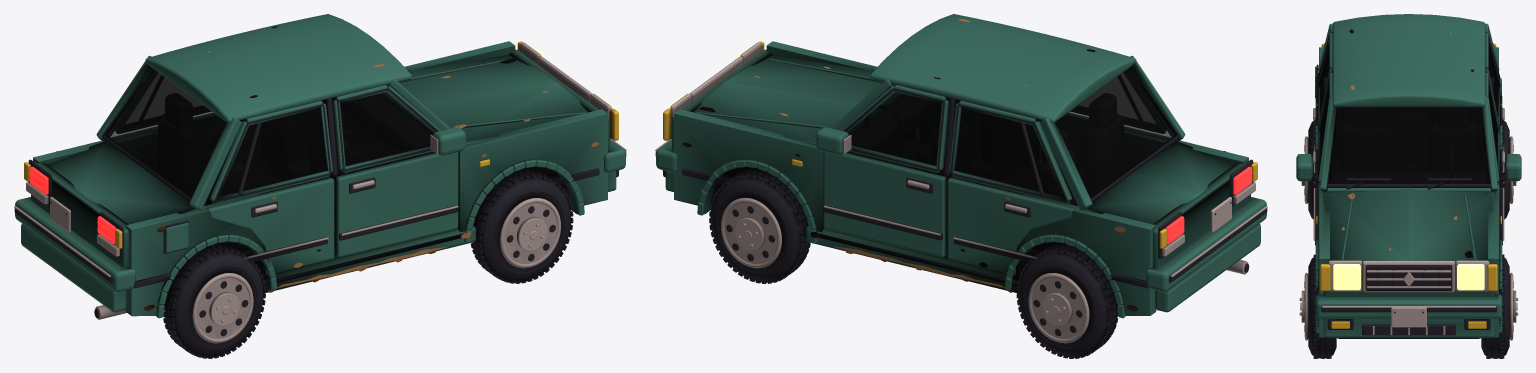
3 renders of one model, left to right at view 1: azimuth 30°, elevation 25°; view 2: azimuth 150°, elevation 25°; view 3: azimuth 270°, elevation 25°, orthographic. The views are drawn at different scales.
Visible parts, largest first — view 1: body_pal_backpackTeal, body_pal_uiDark, doorR_pal_backpackTeal, doorRR_pal_backpackTeal, body_pal_asphalt, wheelRR_pal_uiDark, wheelFR_pal_uiDark, doorRR_pal_asphalt, doorR_pal_asphalt, wheelRR_pal_sidewalk, wheelFR_pal_sidewalk, body_pal_sidewalk (+8 smaller); view 2: body_pal_backpackTeal, body_pal_uiDark, doorL_pal_backpackTeal, doorRL_pal_backpackTeal, body_pal_asphalt, wheelRL_pal_uiDark, wheelFL_pal_uiDark, doorRL_pal_asphalt, doorL_pal_asphalt, wheelRL_pal_sidewalk, wheelFL_pal_sidewalk, body_pal_sidewalk (+8 smaller); view 3: body_pal_backpackTeal, body_pal_uiDark, body_pal_asphalt, body_pal_sidewalk, wheelFL_pal_uiDark, wheelFR_pal_uiDark, doorL_pal_backpackTeal, doorR_pal_backpackTeal, lightsFront_pal_schoolBusYellow, lampHeadL_emi_windowGlow, lampHeadR_emi_windowGlow, doorL_pal_uiDark (+17 smaller).
Boxes of the visible parts, x1,y1,x2,y2 form: body_pal_backpackTeal: (15, 14, 625, 318); body_pal_uiDark: (14, 81, 626, 317); doorR_pal_backpackTeal: (332, 85, 465, 257); doorRR_pal_backpackTeal: (206, 100, 334, 274); body_pal_asphalt: (107, 69, 387, 196); wheelRR_pal_uiDark: (163, 244, 265, 358); wheelFR_pal_uiDark: (471, 169, 573, 283); doorRR_pal_asphalt: (219, 108, 326, 196); doorR_pal_asphalt: (340, 92, 433, 165); wheelRR_pal_sidewalk: (192, 273, 253, 343); wheelFR_pal_sidewalk: (500, 198, 560, 268); body_pal_sidewalk: (14, 42, 626, 319); body_pal_backpackTeal: (656, 14, 1266, 318); body_pal_uiDark: (655, 81, 1267, 304); doorL_pal_backpackTeal: (816, 85, 949, 257); doorRL_pal_backpackTeal: (947, 100, 1075, 274); body_pal_asphalt: (894, 69, 1174, 196); wheelRL_pal_uiDark: (1016, 244, 1118, 358); wheelFL_pal_uiDark: (709, 169, 810, 283); doorRL_pal_asphalt: (955, 108, 1062, 196); doorL_pal_asphalt: (848, 92, 941, 165); wheelRL_pal_sidewalk: (1028, 273, 1089, 343); wheelFL_pal_sidewalk: (721, 198, 781, 268); body_pal_sidewalk: (655, 42, 1267, 277); body_pal_backpackTeal: (1315, 14, 1502, 337); body_pal_uiDark: (1315, 43, 1502, 338); body_pal_asphalt: (1330, 107, 1487, 183); body_pal_sidewalk: (1322, 260, 1495, 334); wheelFL_pal_uiDark: (1481, 254, 1513, 358); wheelFR_pal_uiDark: (1304, 254, 1336, 358); doorL_pal_backpackTeal: (1485, 73, 1521, 239); doorR_pal_backpackTeal: (1296, 73, 1332, 239); lightsFront_pal_schoolBusYellow: (1320, 264, 1497, 328); lampHeadL_emi_windowGlow: (1457, 264, 1484, 290); lampHeadR_emi_windowGlow: (1333, 264, 1360, 290); doorL_pal_uiDark: (1488, 75, 1505, 245).
Size of the model in its own units: 4.4 by 1.9 by 1.8.
